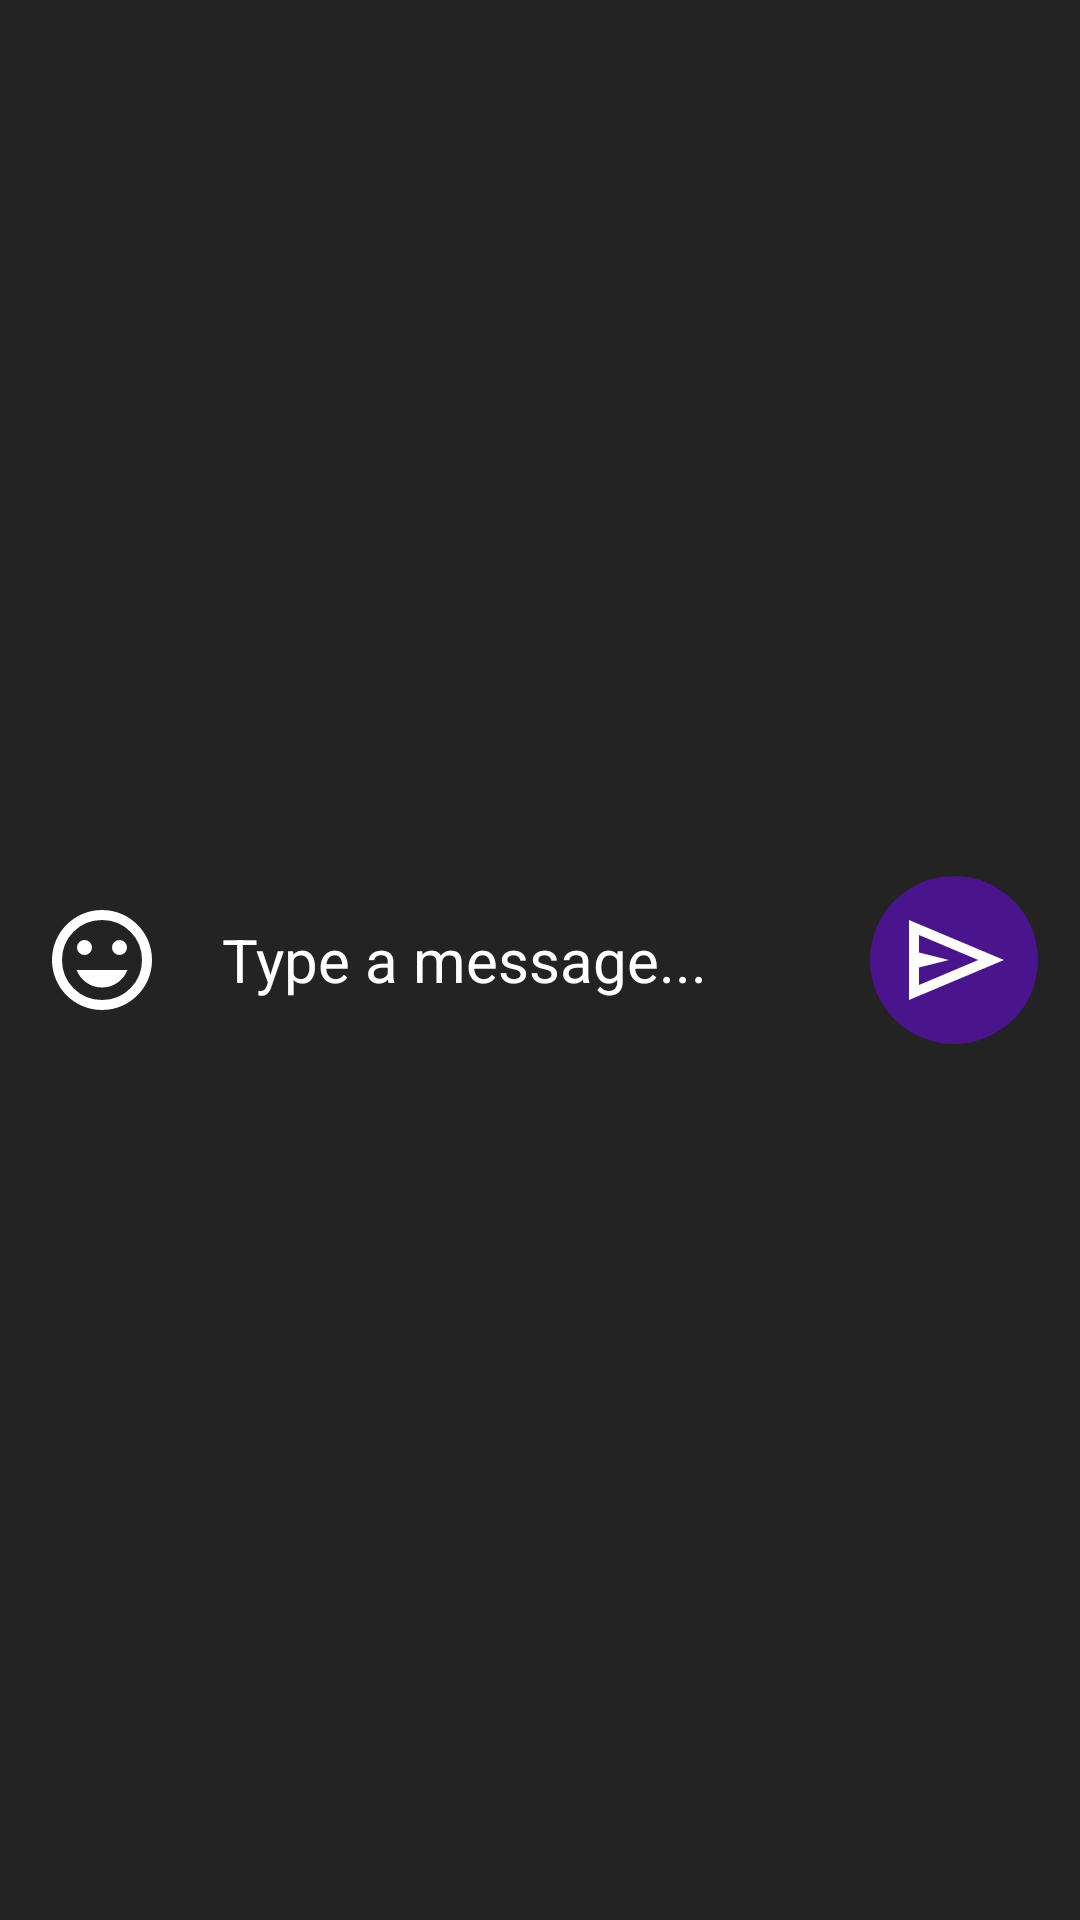

Named icons in this screenshot (1080×1920) and their centers, (x=x, y=y):
mood: (x=102, y=960)
send: (x=956, y=960)
